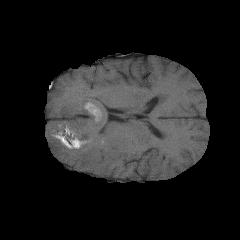glioma: (47, 95, 128, 173)
